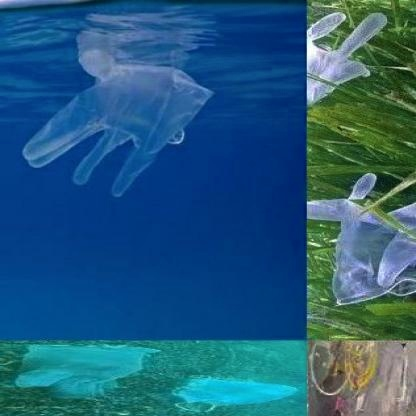Mask: (168, 375, 305, 412)
glove: (27, 52, 213, 200), (306, 172, 414, 312), (306, 8, 394, 139), (14, 343, 160, 399)
